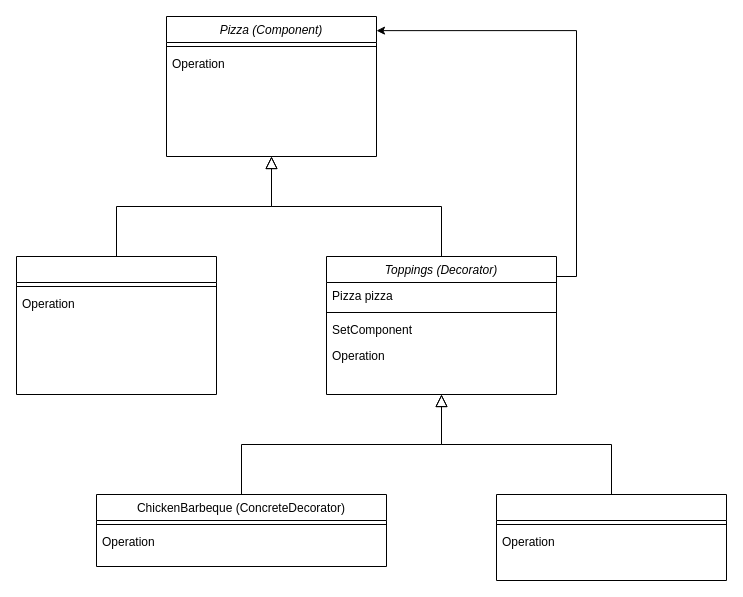
Some shapes in this 743 by 597 pixel diagram are drawn without their labels. Here are the shapes that lost their labels. From the top down, the box of each, then its label:
(16, 256, 216, 394): Plain Pizza (ConcreteComponent)
(496, 494, 726, 580): GrilledChicken (ConcreteDecorator)
